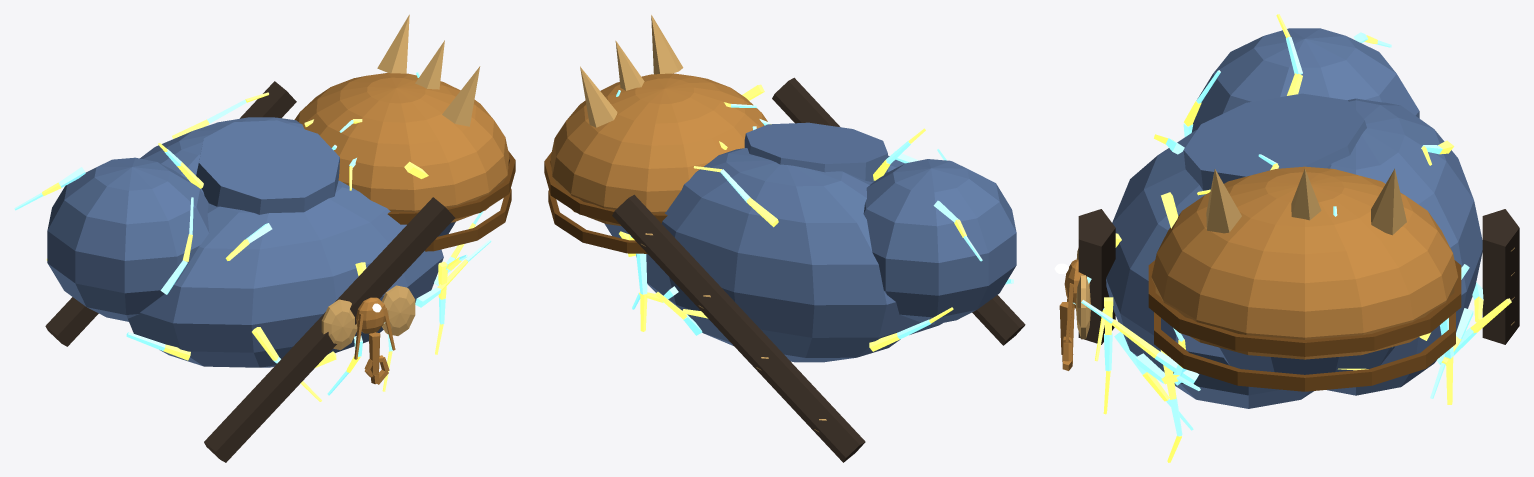
Rendered from storm_titan_chest.glb.
The picture shows the model from 3 angles, left to right: view 1: azimuth 30°, elevation 25°; view 2: azimuth 150°, elevation 25°; view 3: azimuth 270°, elevation 25°; orthographic projection. The views are drawn at different scales.
Visible parts, largest first — view 1: storm_titan_chest; view 2: storm_titan_chest; view 3: storm_titan_chest.
Boxes of the visible parts, x1,y1,x2,y2 form: storm_titan_chest: (14,14,515,462); storm_titan_chest: (544,15,1025,462); storm_titan_chest: (1054,14,1519,462).
Size of the model in its own units: 1.3 by 0.7899 by 0.91.
